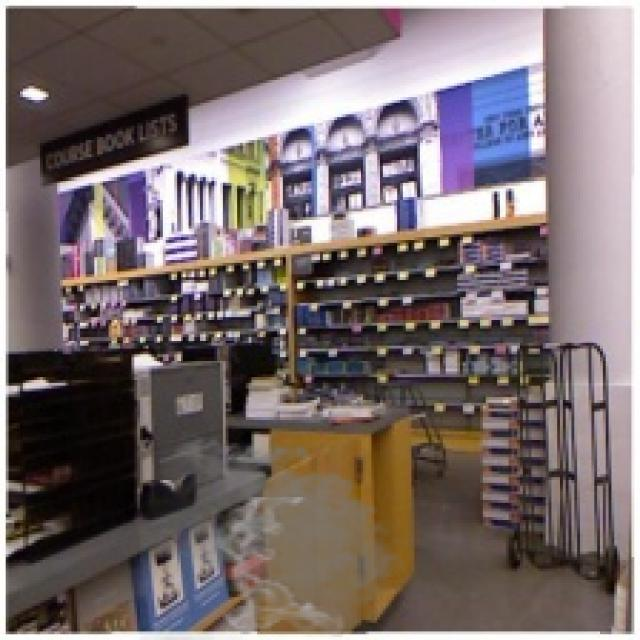smoke: (140, 432, 420, 637)
